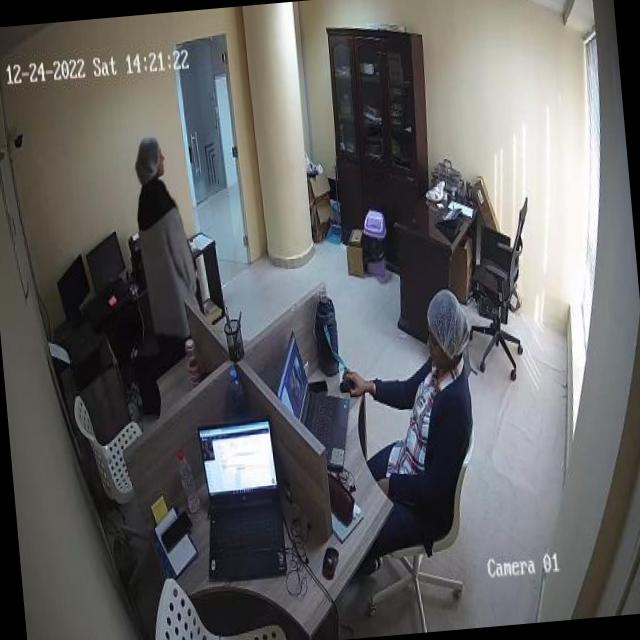hairnet: (427, 289, 472, 356), (130, 136, 160, 180)
